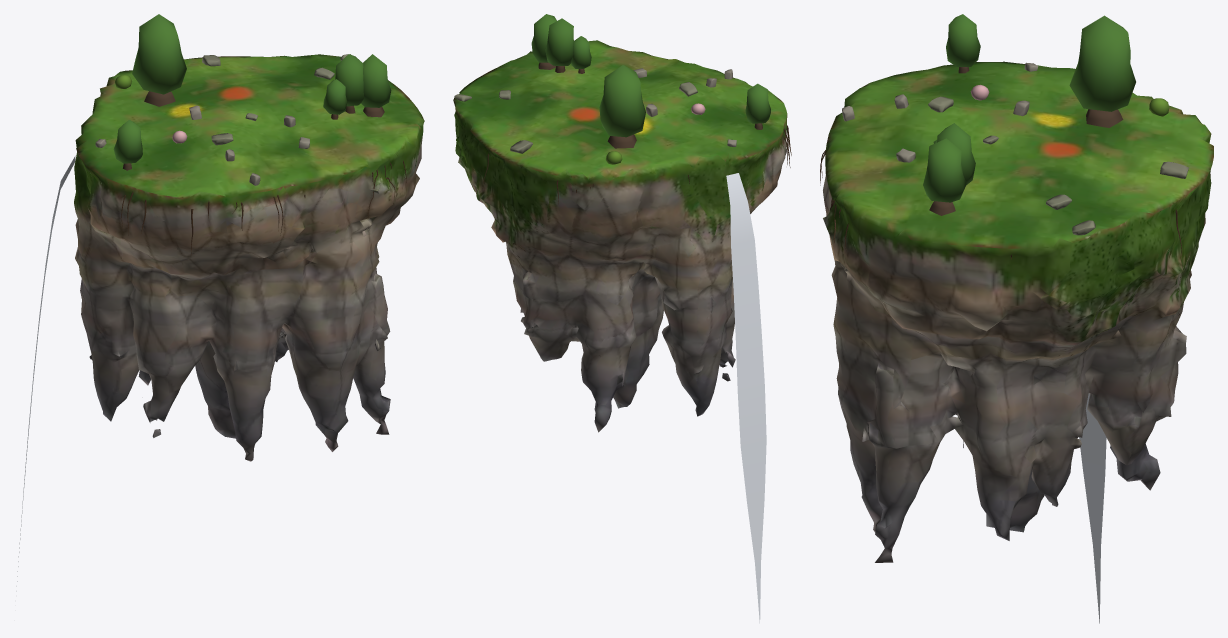
The model's file is island-cliff-lod1.glb.
The picture shows the model from 3 angles, left to right: view 1: azimuth 30°, elevation 25°; view 2: azimuth 150°, elevation 25°; view 3: azimuth 270°, elevation 25°; orthographic projection. The views are drawn at different scales.
Visible parts, largest first — view 1: Terrain, Detail; view 2: Terrain, Detail; view 3: Terrain, Detail.
Boxes of the visible parts, x1,y1,x2,y2 form: Terrain: (74,54,424,461); Detail: (16,14,406,591); Terrain: (453,40,787,432); Detail: (454,14,791,623); Terrain: (823,61,1213,562); Detail: (820,14,1210,623).
Bounding box in the file's own units: 56.47 × 88.95 × 45.68.
Materials: 2 (1 with a texture image).
